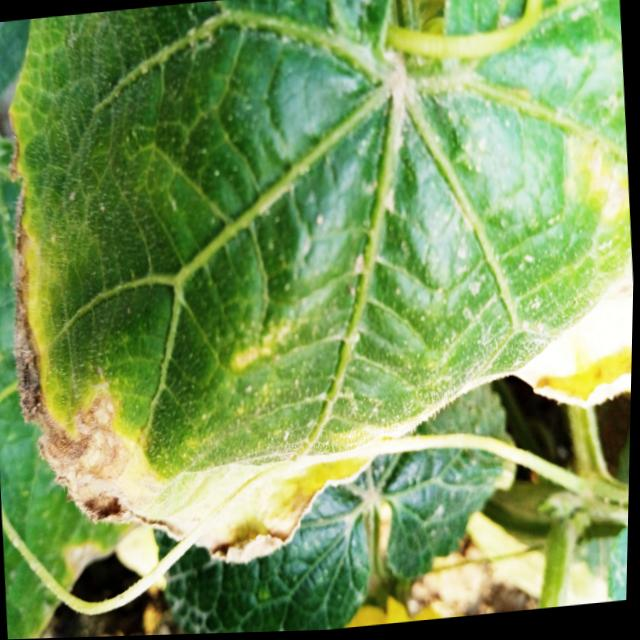Gummy-Stem-Blight: (4, 93, 378, 560)
